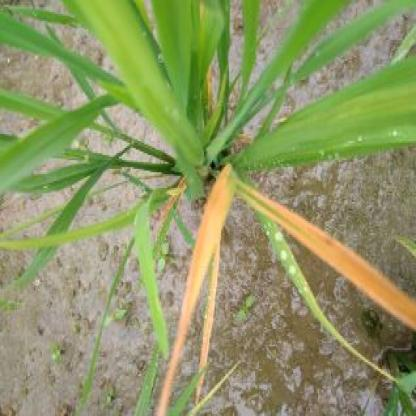Tungro: (164, 188, 236, 411)
